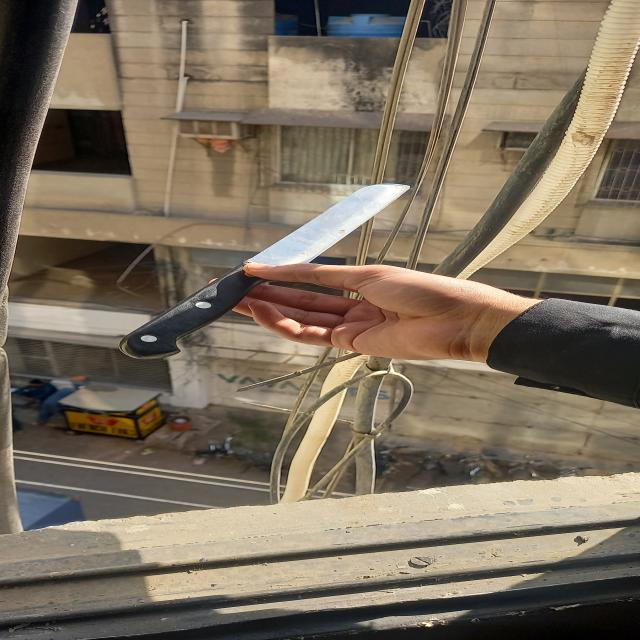Knife: (116, 176, 427, 362)
